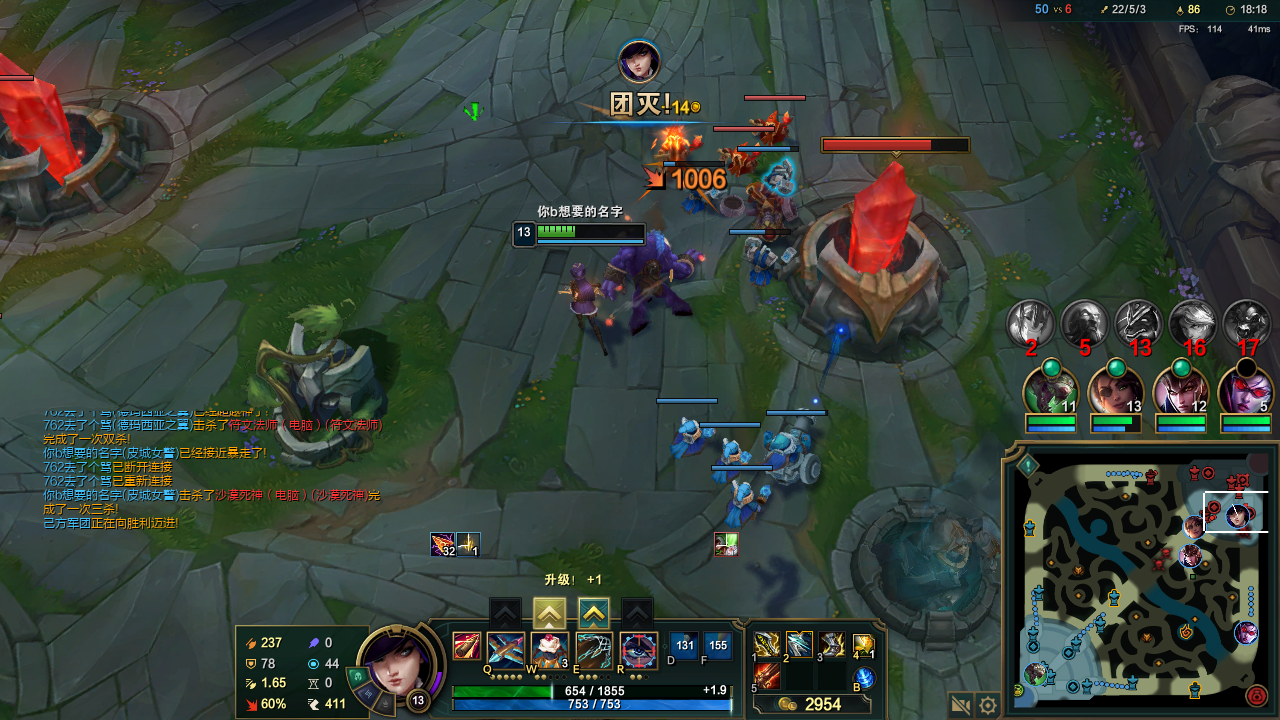DFSJ: (799, 135, 956, 340)
DFXB: (746, 106, 786, 137), (662, 133, 701, 163), (719, 145, 747, 175)
WFXB: (762, 423, 826, 480), (722, 478, 772, 519), (709, 438, 744, 479), (737, 249, 782, 280), (672, 417, 706, 449)
